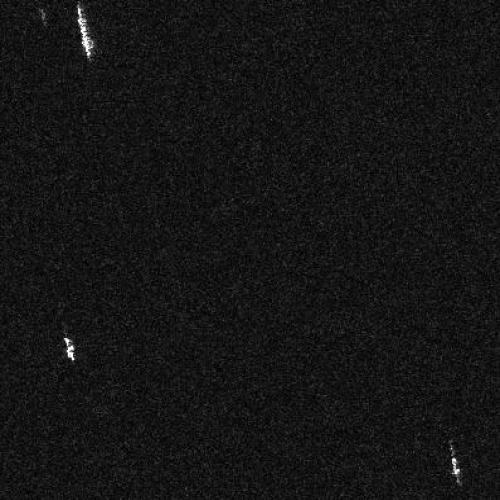ship: (76, 4, 96, 60), (62, 336, 77, 362), (449, 453, 461, 483)
